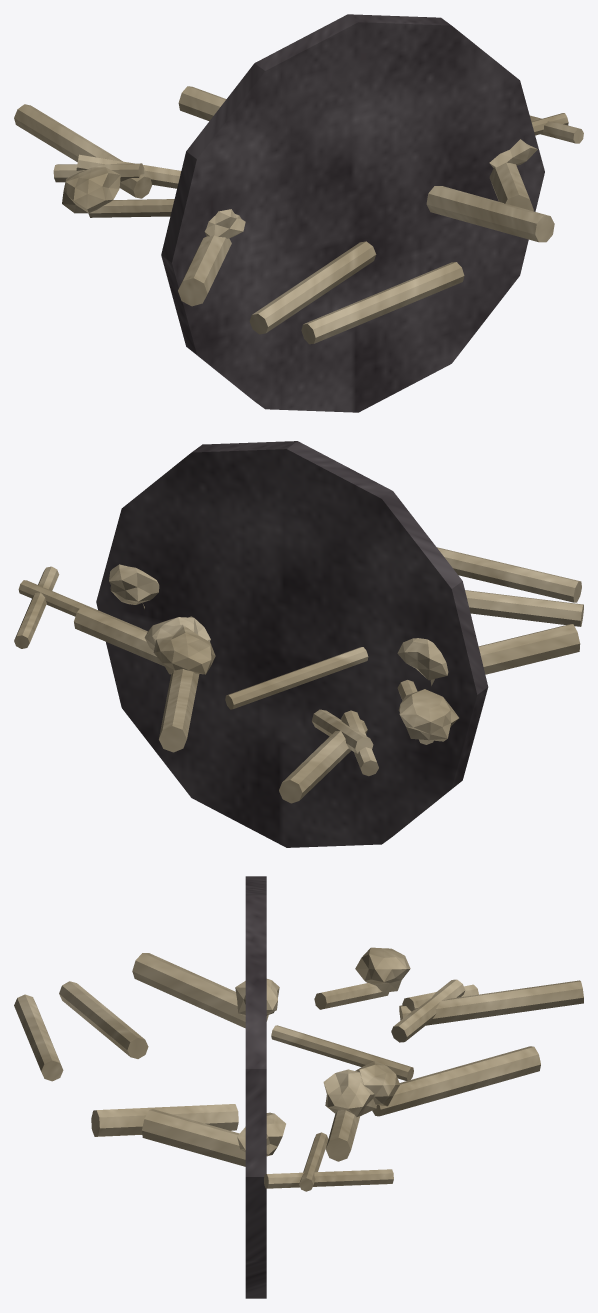
The model's file is 0230_bone_heap_05.glb.
The picture shows the model from 3 angles, top to bottom: view 1: azimuth 30°, elevation 25°; view 2: azimuth 150°, elevation 25°; view 3: azimuth 270°, elevation 25°; orthographic projection. The views are drawn at different scales.
Parts seen in each view (by area): view 1: ash, bone; view 2: ash, bone; view 3: bone, ash.
Part boxes in pixels (x1,y1,x2,y2): ash: (161,14,544,412); bone: (14,86,583,344); ash: (96,441,488,847); bone: (14,547,583,803); bone: (14,947,583,1191); ash: (245,876,266,1298).
Size of the model in its own units: 2 by 1.6 by 2.15.
Materials: 2 (2 with a texture image).
